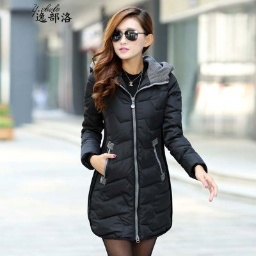face: (94, 7, 155, 62)
